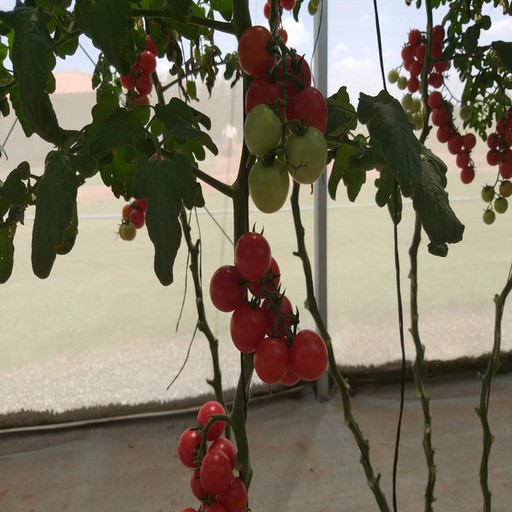green tomato bunch: (120, 153, 171, 242), (386, 68, 427, 135)
red tomato bunch: (209, 230, 329, 387), (237, 25, 328, 142), (178, 401, 254, 512), (427, 90, 475, 184), (402, 26, 451, 92), (120, 33, 161, 96), (486, 103, 512, 179)
